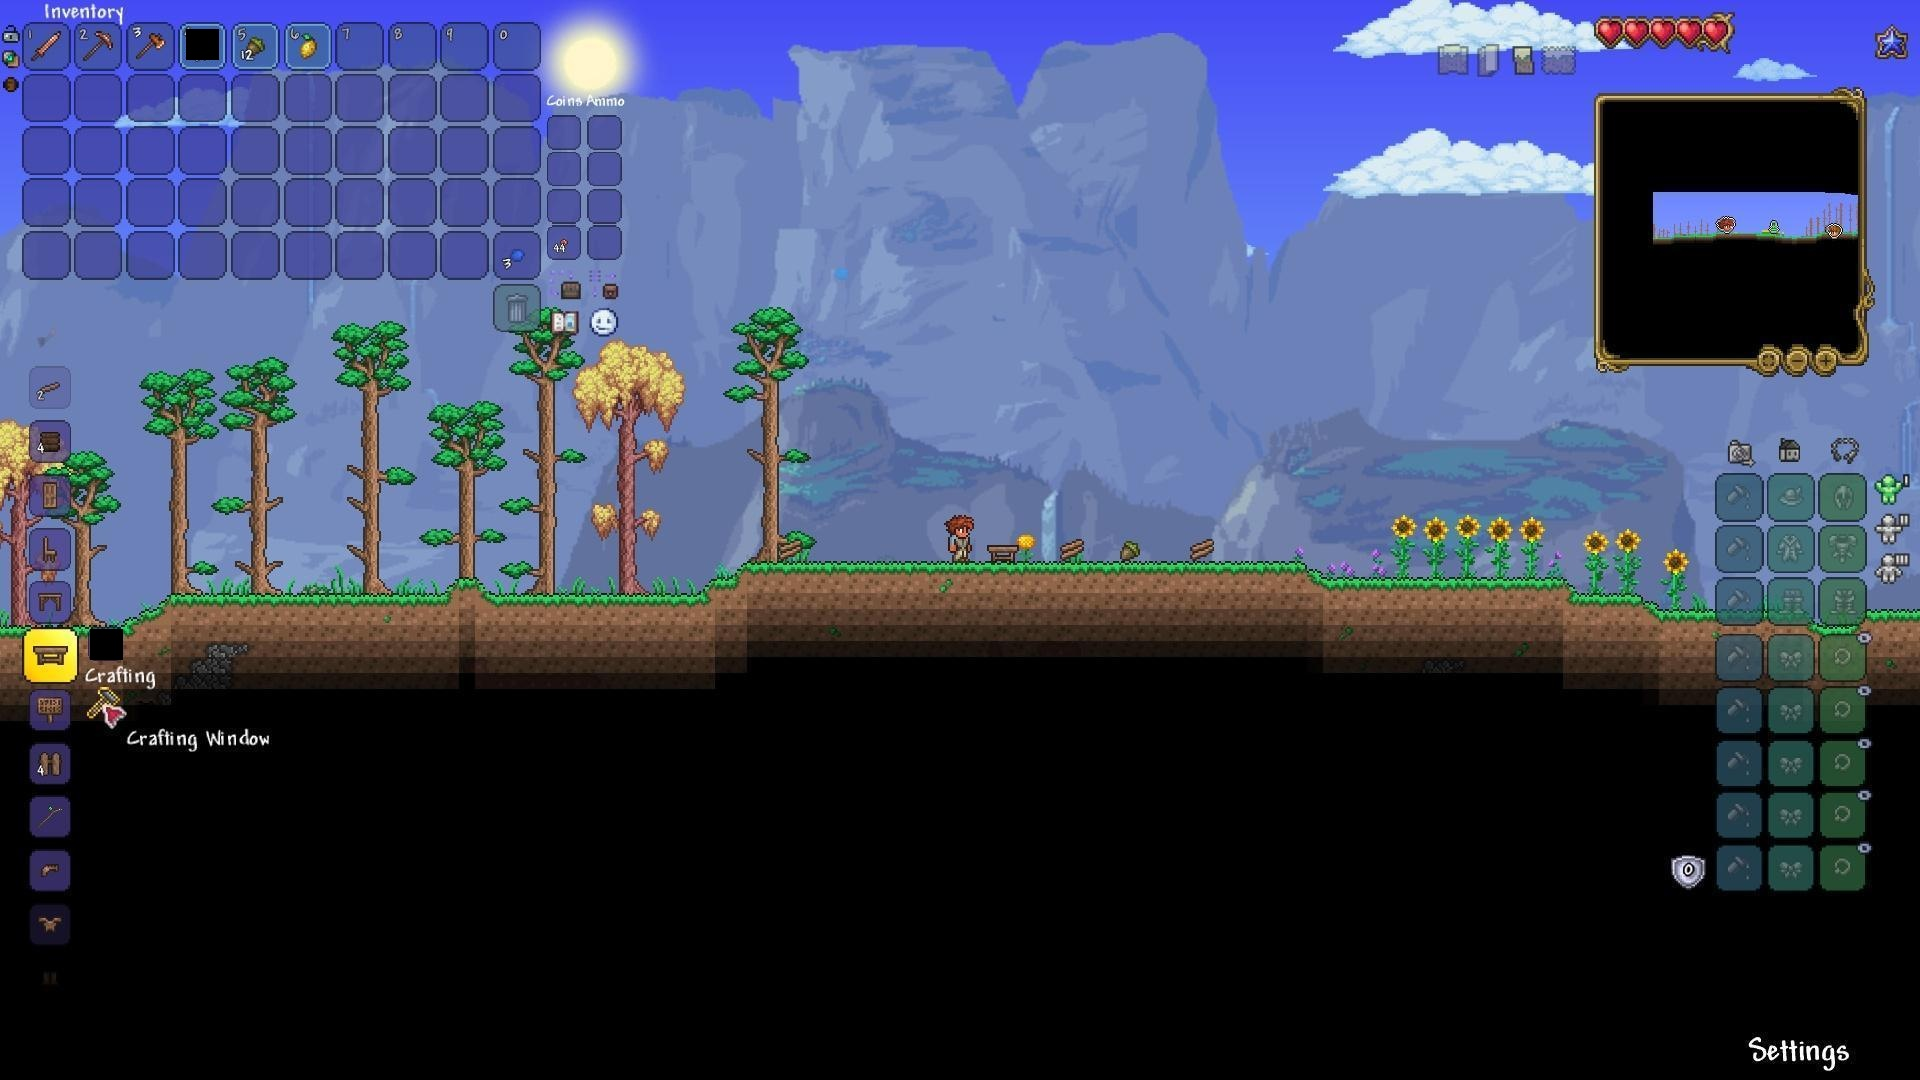breastplate: (34, 913, 65, 934)
helmet: (34, 852, 65, 881)
wood: (775, 534, 808, 564), (1188, 533, 1220, 563), (1058, 534, 1089, 564)
workbench: (981, 539, 1018, 564), (34, 644, 65, 669)
